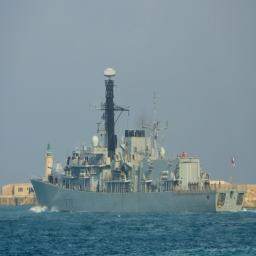Fragata: (31, 69, 248, 223)
